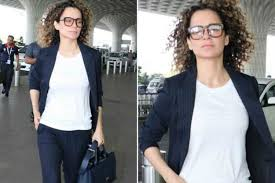Glasses: (182, 28, 228, 38), (59, 16, 86, 29)
